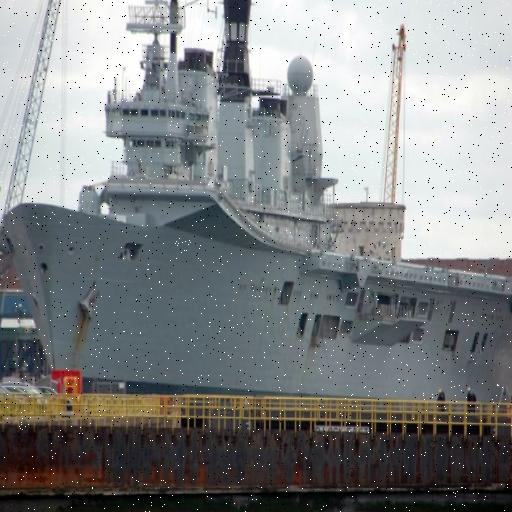Portanaves: (1, 1, 512, 406)
